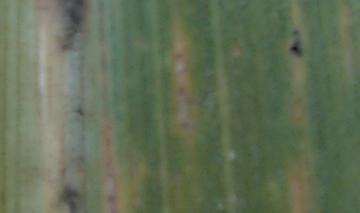tarspot: (58, 1, 88, 55), (57, 182, 79, 213), (287, 24, 304, 59), (105, 192, 118, 213), (72, 102, 85, 117), (180, 118, 192, 130), (177, 83, 185, 97), (215, 1, 224, 12), (59, 166, 68, 176), (174, 49, 182, 57)
